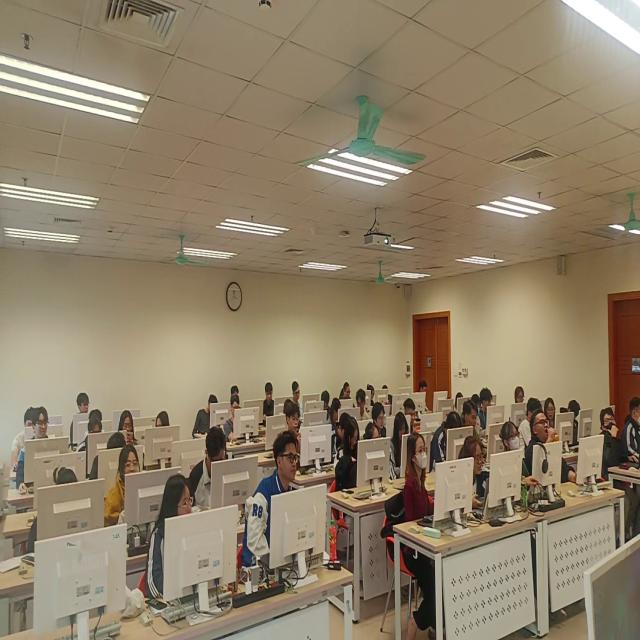raise_head: (35, 470, 90, 547), (402, 437, 443, 538), (108, 452, 154, 529), (533, 412, 574, 490), (21, 407, 55, 485), (501, 424, 529, 503), (599, 412, 628, 485), (513, 387, 529, 424)
using_computer: (462, 446, 505, 515), (464, 405, 497, 462), (223, 398, 257, 451), (94, 432, 129, 482), (79, 412, 106, 472), (387, 419, 415, 472), (562, 401, 591, 446), (438, 420, 465, 465), (288, 378, 319, 415), (623, 396, 640, 461), (403, 402, 430, 440), (370, 405, 396, 443), (418, 379, 442, 418), (544, 400, 567, 435), (259, 385, 279, 423)
using_phone: (334, 419, 379, 498), (280, 407, 307, 452), (118, 412, 142, 451)
